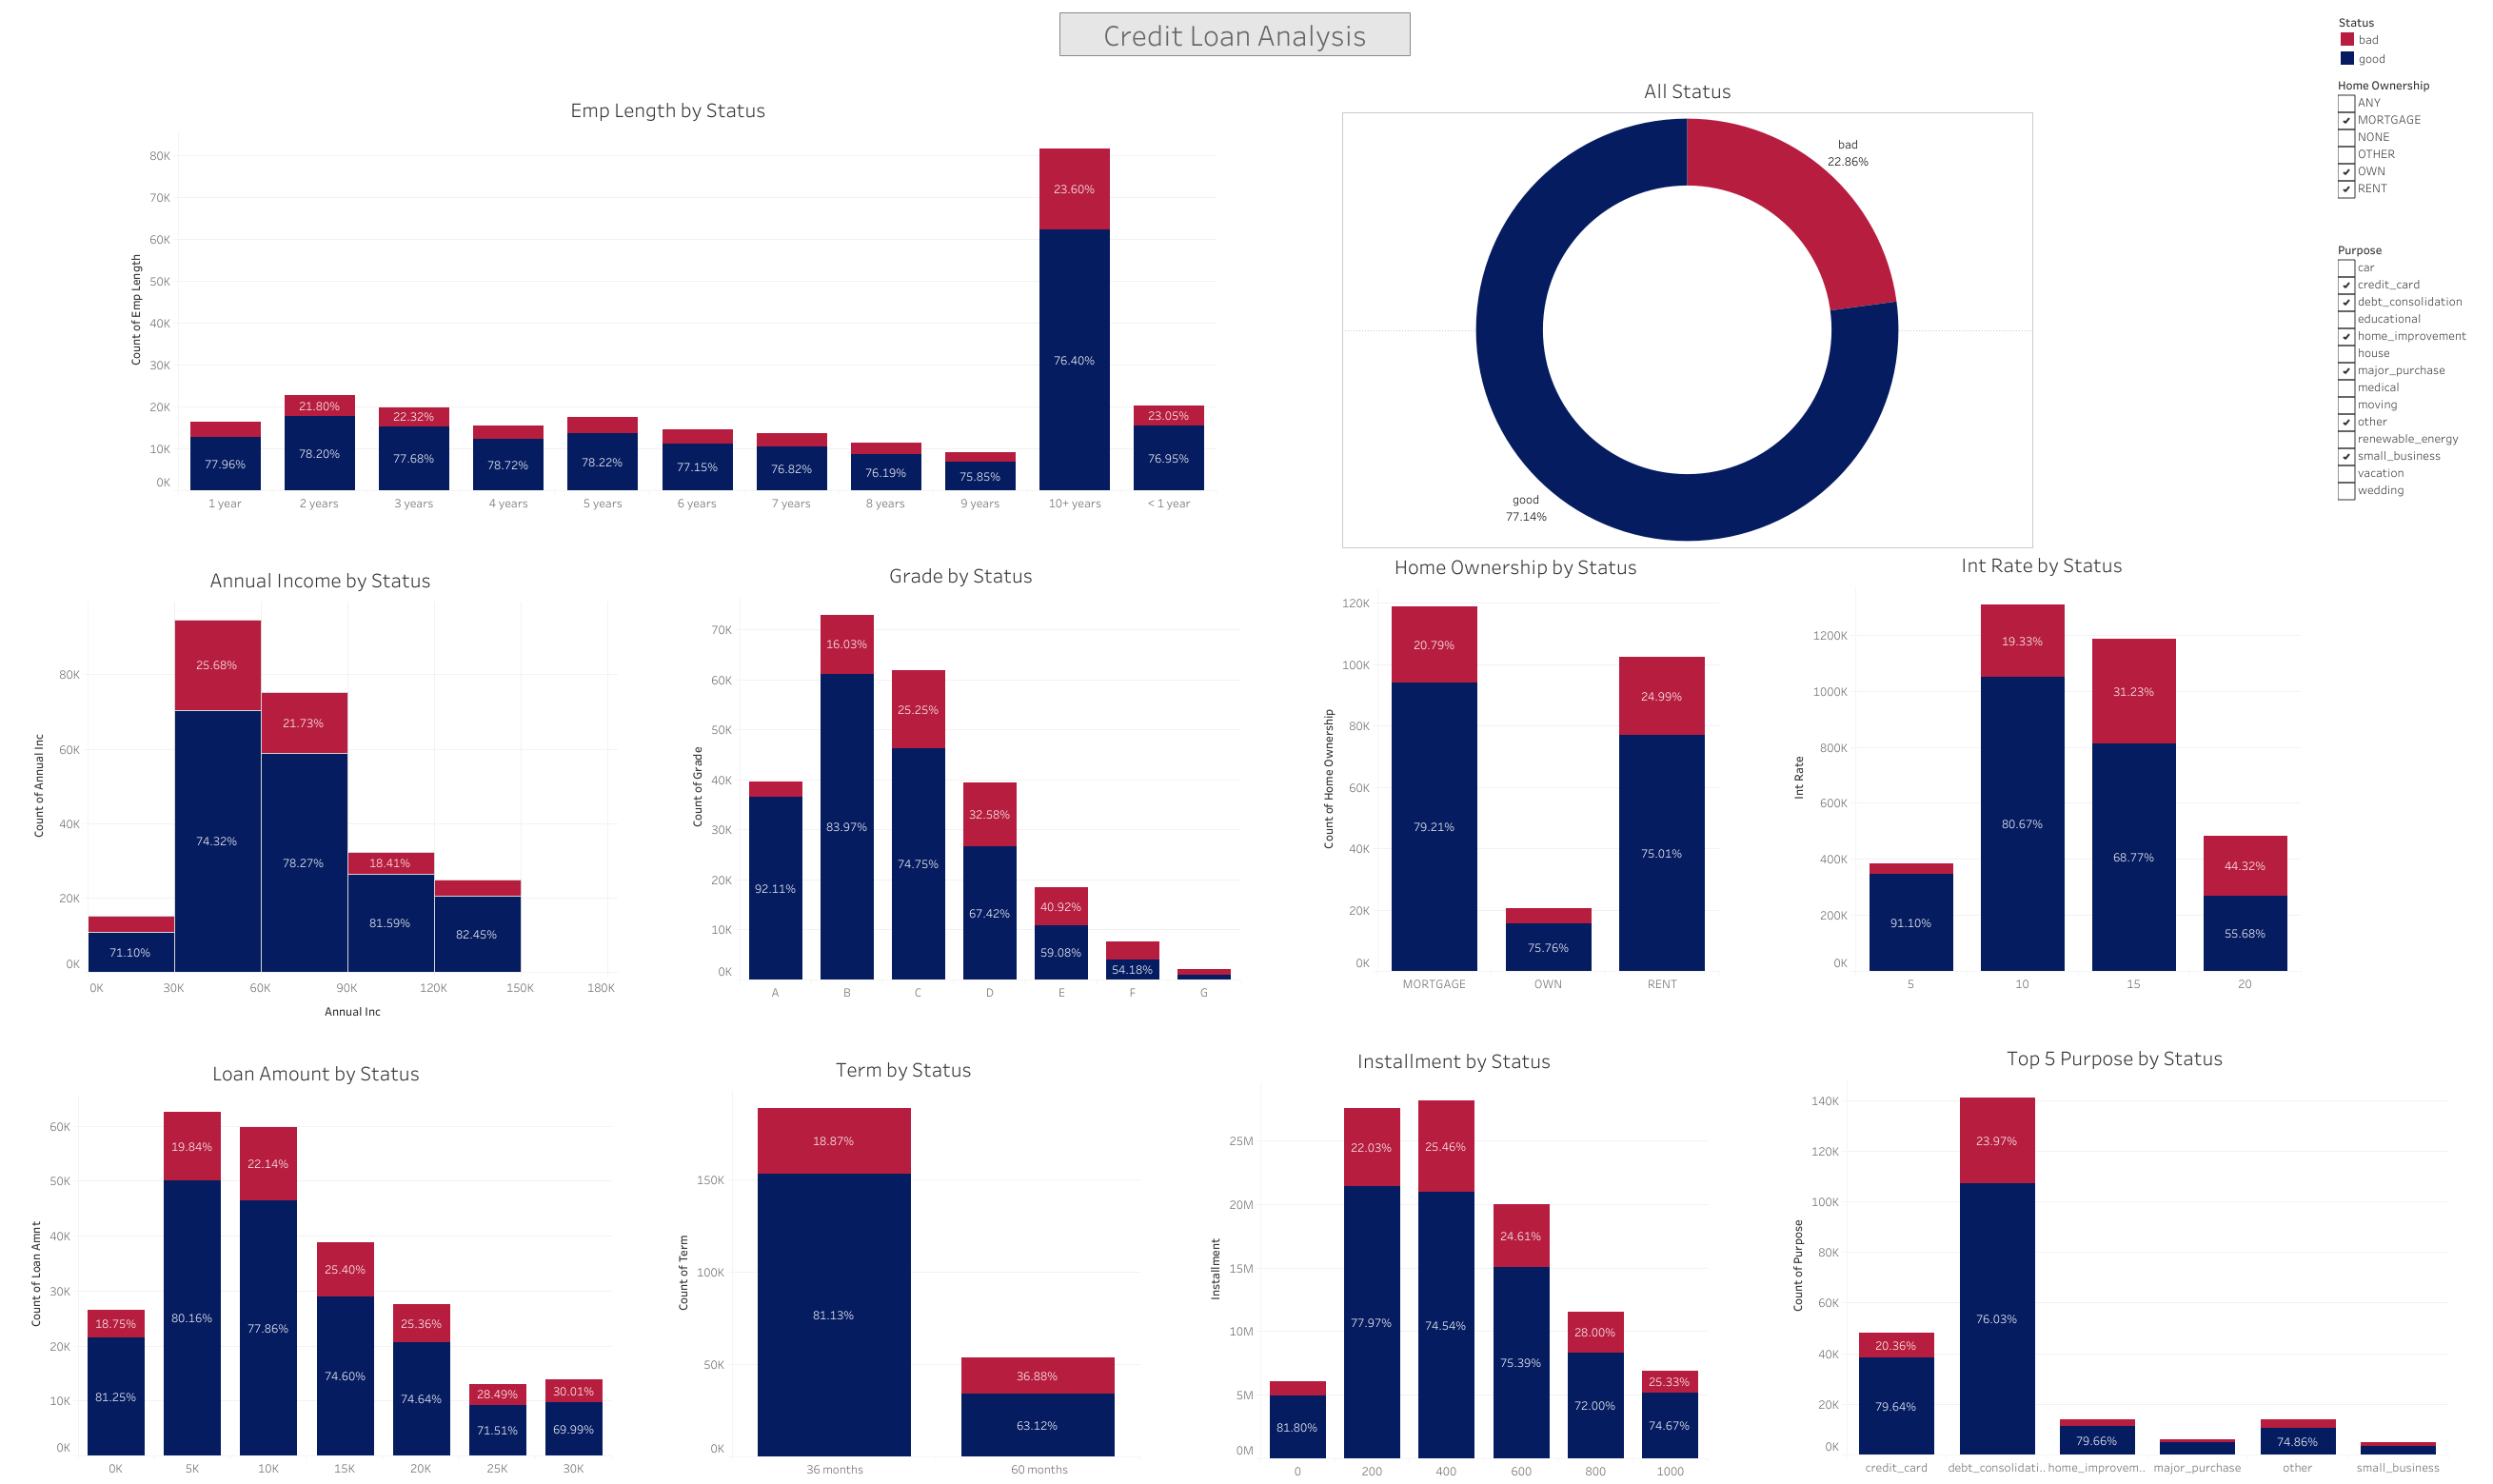

The dashboard page shown, as its layout file describes it:
{"tool":"tableau","page":{"name":"Dashboard 1","canvas":[2620,1560],"ordinal":0},"visuals":[{"type":"legend","title":"loan amount","param":"[federated.1mo608e1sbhdki13lrjw10jhakla].[none:status:nk]","box":[2452,8,160,66]},{"type":"text","box":[1113,13,369,46]},{"type":"filter","title":"home","param":"[federated.1mo608e1sbhdki13lrjw10jhakla].[none:home_ownership:nk]","box":[2452,74,160,165]},{"type":"worksheet","title":"status","mark":"Pie","rows":["Calculation_864972658612371462","Calculation_864972658612371462"],"box":[1410,75,726,501]},{"type":"worksheet","title":"emp length","mark":"Automatic","rows":["Sheet1_73EE2DB572994C3E80323C5D631ADE63"],"cols":["emp_length"],"box":[126,95,1152,442]},{"type":"filter","title":"purpose","param":"[federated.1mo608e1sbhdki13lrjw10jhakla].[none:purpose:nk]","box":[2452,239,160,317]},{"type":"worksheet","title":"int rate","mark":"Automatic","rows":["int_rate"],"cols":["Int Rate (bin)"],"box":[1873,573,544,469]},{"type":"worksheet","title":"home","mark":"Automatic","rows":["Sheet1_73EE2DB572994C3E80323C5D631ADE63"],"cols":["home_ownership"],"box":[1379,575,427,467]},{"type":"worksheet","title":"Grade","mark":"Automatic","rows":["Sheet1_73EE2DB572994C3E80323C5D631ADE63"],"cols":["grade"],"box":[716,584,587,467]},{"type":"worksheet","title":"an_inc","mark":"Automatic","rows":["annual_inc"],"cols":["Annual Inc (bin)"],"box":[24,589,625,489]},{"type":"worksheet","title":"purpose","mark":"Automatic","rows":["Sheet1_73EE2DB572994C3E80323C5D631ADE63"],"cols":["purpose"],"box":[1872,1091,700,459]},{"type":"worksheet","title":"installment","mark":"Automatic","rows":["installment"],"cols":["Installment (bin)"],"box":[1260,1094,535,460]},{"type":"worksheet","title":"loan amount","mark":"Automatic","rows":["loan_amnt"],"cols":["Loan Amnt (bin)"],"box":[21,1107,622,444]}]}

Visuals, with their boxes in screenshot pixels (x1, y1, x2, y2), scaled from the page's 2620x1560 canvas onto the 2493x1484 screenshot:
"loan amount" legend: locate(2333, 8, 2485, 70)
text: locate(1059, 12, 1410, 56)
"home" filter: locate(2333, 70, 2485, 228)
"status" worksheet (Pie marks): locate(1341, 71, 2032, 548)
"emp length" worksheet: locate(120, 90, 1217, 511)
"purpose" filter: locate(2333, 228, 2485, 529)
"int rate" worksheet: locate(1782, 545, 2300, 991)
"home" worksheet: locate(1312, 547, 1718, 991)
"Grade" worksheet: locate(682, 556, 1240, 999)
"an_inc" worksheet: locate(23, 561, 618, 1025)
"purpose" worksheet: locate(1781, 1038, 2447, 1474)
"installment" worksheet: locate(1199, 1040, 1708, 1478)
"loan amount" worksheet: locate(20, 1053, 612, 1475)
